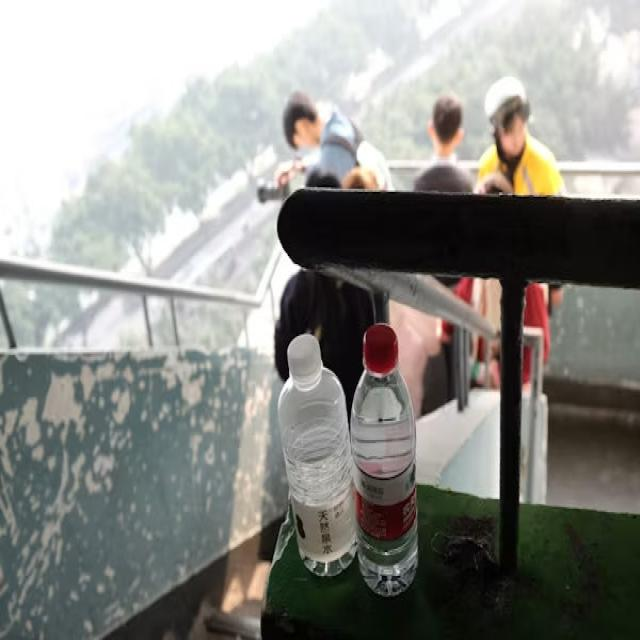Bottle: (279, 335, 356, 575), (351, 324, 418, 596)
